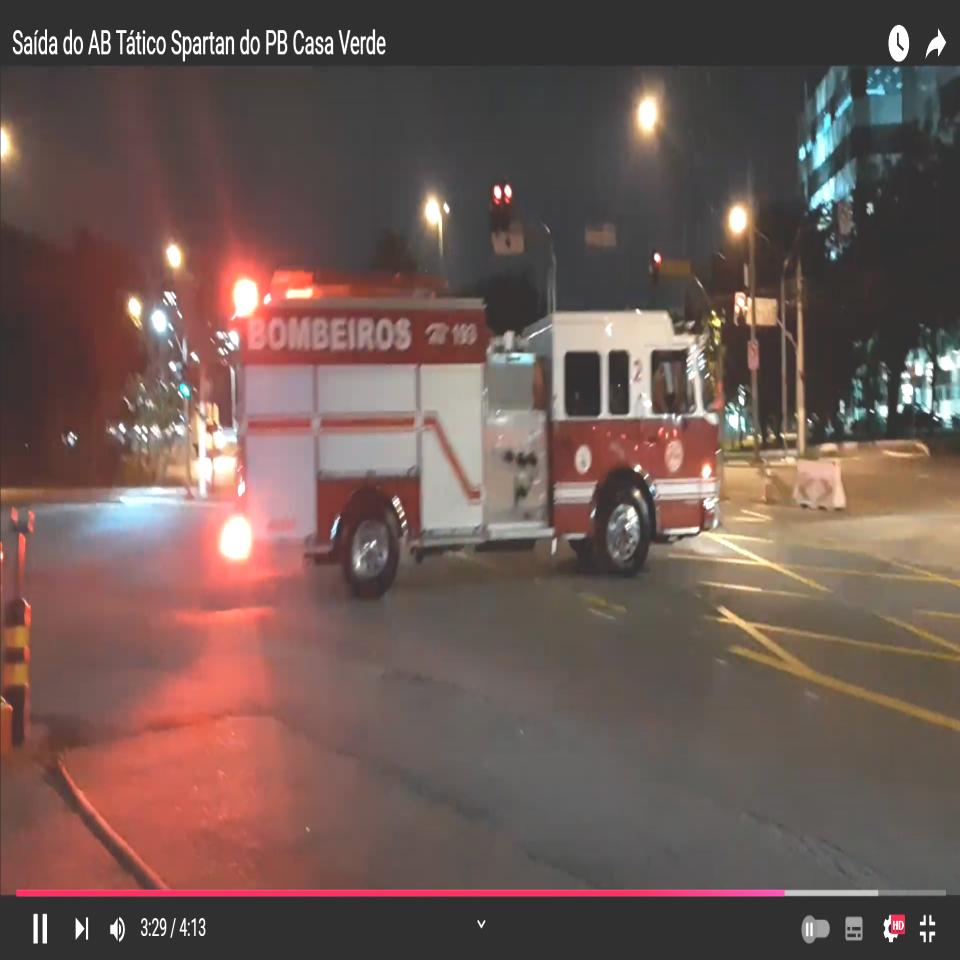bombeiro: (232, 265, 721, 599)
